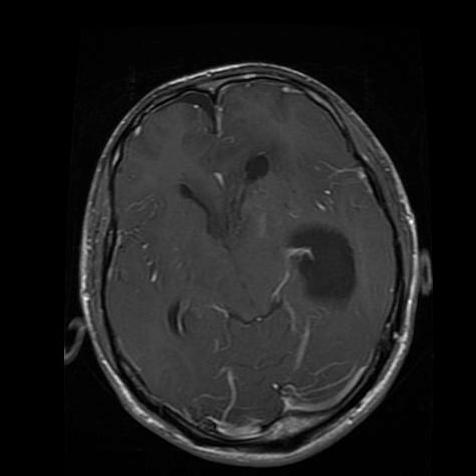Tumour-Glioma: (282, 223, 367, 316)
